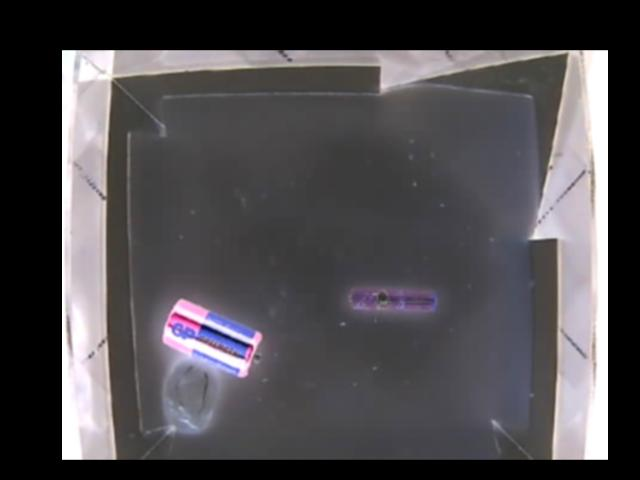Battery: (163, 300, 265, 375), (346, 288, 436, 312)
Pebble: (160, 357, 219, 433)
